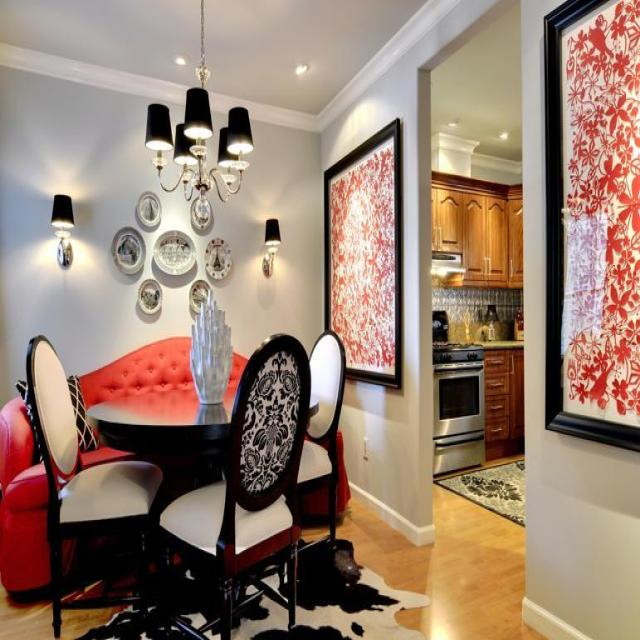carpet: (70, 535, 431, 639)
chair: (158, 331, 311, 639), (20, 333, 163, 638)
cupboard: (462, 184, 507, 288), (431, 178, 462, 256), (506, 182, 523, 288)
curtains: (560, 208, 608, 358)
lamps: (144, 0, 254, 231), (50, 192, 75, 268), (262, 218, 280, 276)
pots: (188, 297, 232, 405)
rugs: (434, 455, 526, 527)
window: (542, 0, 639, 451)
windows: (322, 116, 402, 389)
